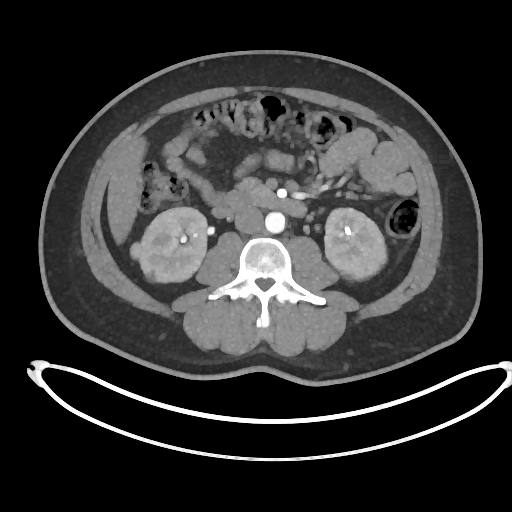Lesion: (128, 241, 141, 260)
